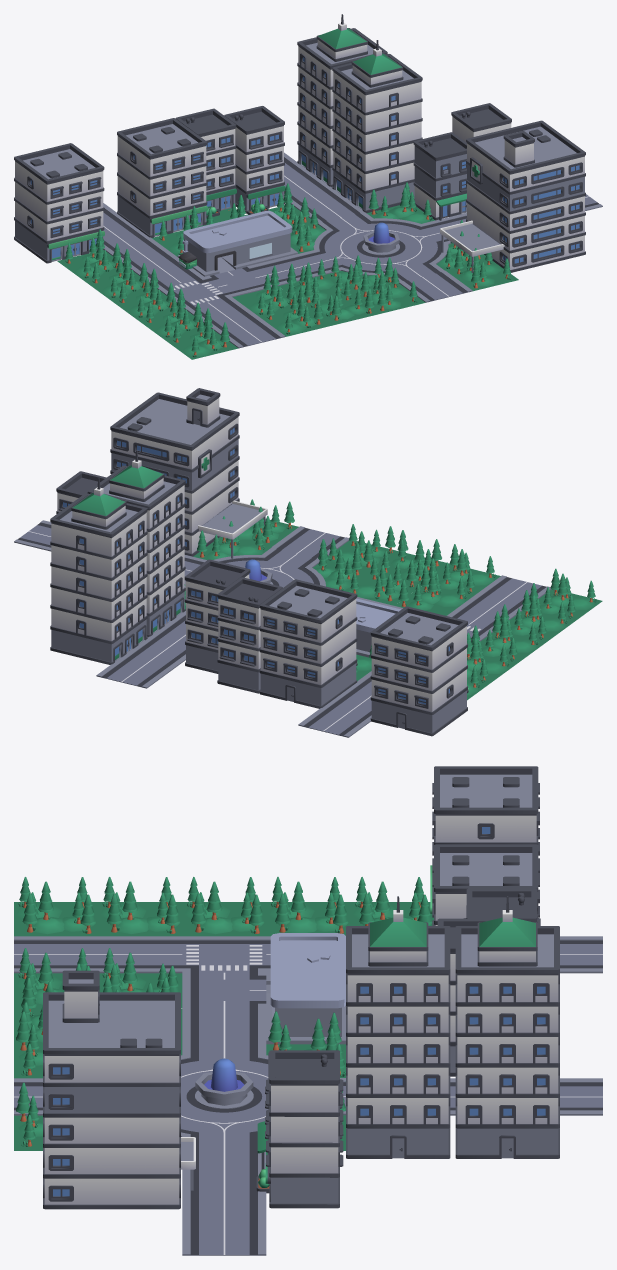
File: garage.glb
3 renders of one model, top to bottom at view 1: azimuth 30°, elevation 25°; view 2: azimuth 150°, elevation 25°; view 3: azimuth 270°, elevation 25°, orthographic. The views are drawn at different scales.
Visible parts, largest first — view 1: Plane; view 2: Plane; view 3: Plane.
Part boxes in pixels (x1,y1,x2,y2): Plane: (14,14,602,359); Plane: (14,388,602,737); Plane: (14,766,602,1255).
Size of the model in its own units: 102 by 32.03 by 70.
18 materials, 18 textured.
